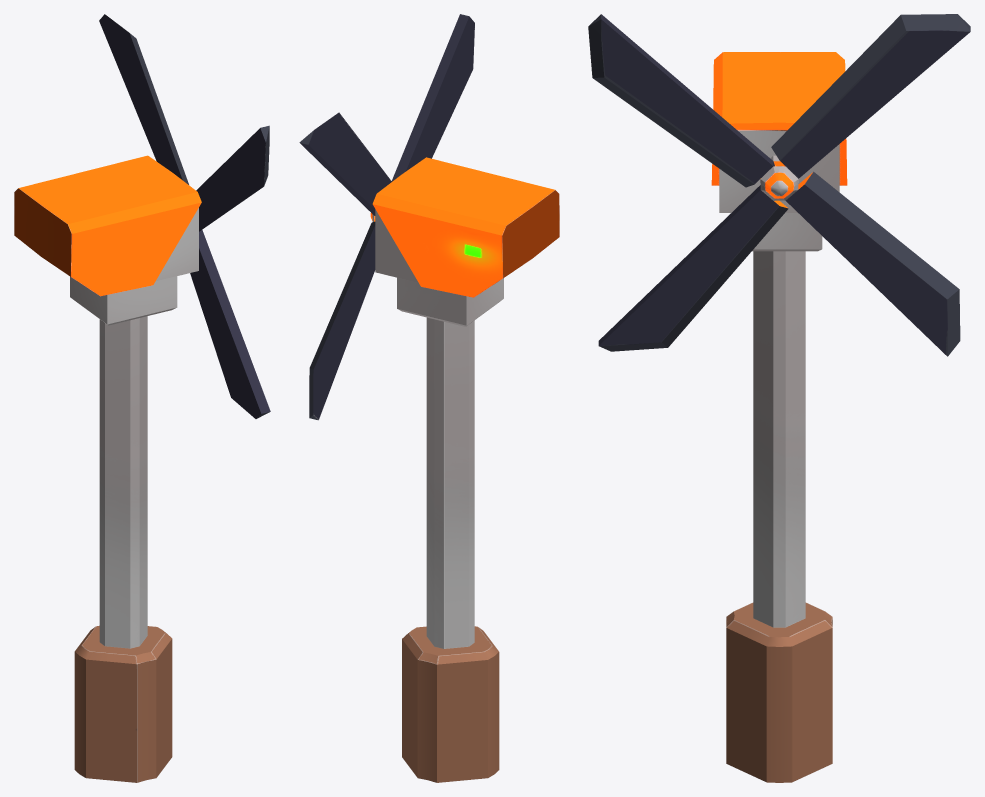
Rendered from Windmolen met mat.fbx.
3 renders of one model, left to right at view 1: azimuth 30°, elevation 25°; view 2: azimuth 150°, elevation 25°; view 3: azimuth 270°, elevation 25°, orthographic. The views are drawn at different scales.
Visible parts, largest first — view 1: polySurface9, polySurface10, polySurface7; view 2: polySurface9, polySurface10, polySurface7; view 3: polySurface7, polySurface9, polySurface10.
Boxes of the visible parts, box(x1,y1,x2,y2) form: polySurface9: box(74, 316, 172, 782); polySurface10: box(14, 155, 201, 325); polySurface7: box(99, 14, 270, 418); polySurface9: box(402, 317, 499, 782); polySurface10: box(372, 157, 559, 326); polySurface7: box(299, 14, 474, 420); polySurface7: box(588, 14, 970, 356); polySurface9: box(726, 251, 832, 782); polySurface10: box(711, 52, 847, 251).
Size of the model in its own units: 1.82 by 7.42 by 3.31.
